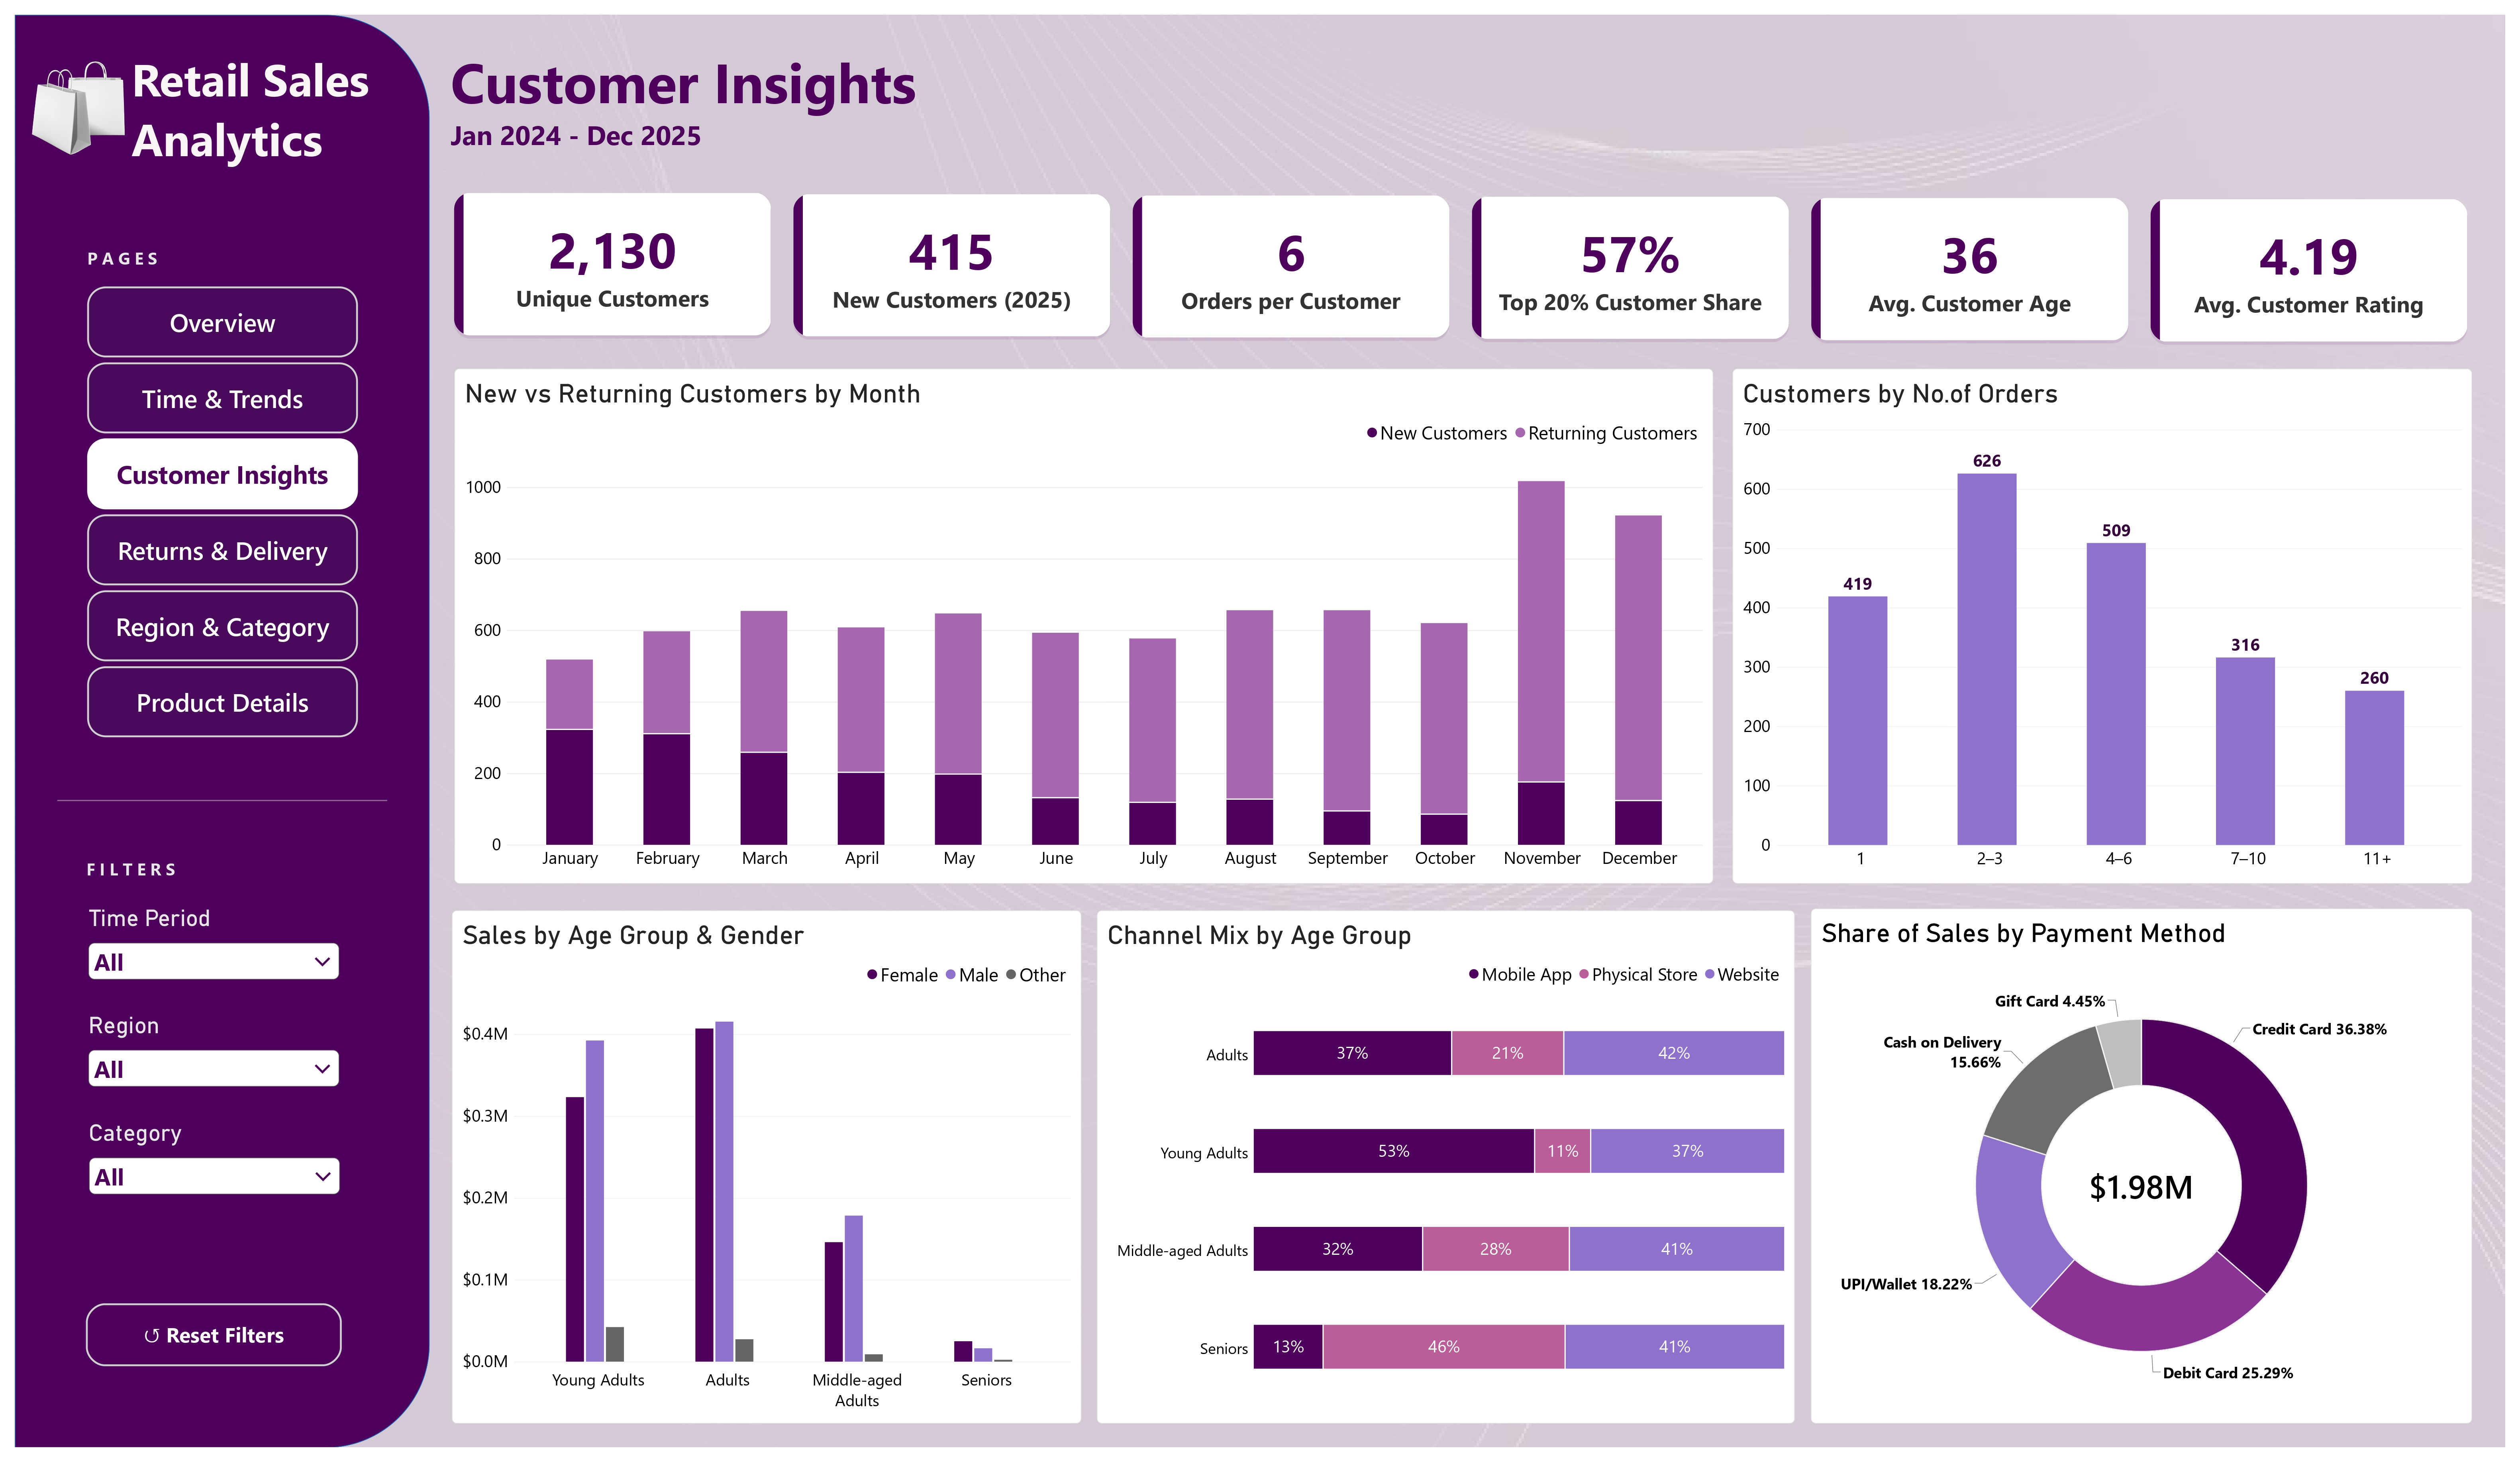

The page's visual inventory and layout, read from the dashboard file:
{"tool":"powerbi","page":{"name":"Customer Insights","canvas":[4000,2300],"ordinal":2},"visuals":[{"type":"shape","box":[0,0,666.3,2300.8],"z":0},{"type":"textbox","box":[186.7,53.3,419.4,215.6],"z":1000},{"type":"image","box":[0,35.3,203.8,227.3],"z":2000},{"type":"pageNavigator","box":[115.6,435.6,435.6,724.4],"z":3000},{"type":"textbox","box":[700,46.7,1236.7,143.3],"z":4000},{"type":"textbox","box":[700,163.3,420,70],"z":5000},{"type":"textbox","box":[116,372,132,40],"z":6000},{"type":"shape","box":[67.5,1150,530,222.5],"z":7000},{"type":"textbox","box":[115,1352.5,145,40],"z":8000},{"type":"listSlicer","title":"Time Period","fields":{"Values":["Date.Year"]},"box":[101.8,1413.6,435,160],"z":9000},{"type":"listSlicer","title":"Region","fields":{"Values":["Table1.region"]},"box":[102.2,1586.2,435,160],"z":10000},{"type":"listSlicer","title":"Category","fields":{"Values":["Table1.product_category"]},"box":[102.5,1758.8,435,160],"z":11000},{"type":"actionButton","box":[113.8,2068.8,411.2,101.2],"z":12000},{"type":"cardVisual","fields":{"Data":["Table1.Unique Customers"]},"box":[700,280,520,240],"z":13000},{"type":"cardVisual","fields":{"Data":["Table1.New Customers 2025"]},"box":[1245,282,520,240],"z":14000},{"type":"cardVisual","title":"Average Order Value","fields":{"Data":["Table1.Top 20% Customer Share"]},"box":[2335,286,520,240],"z":15000},{"type":"cardVisual","fields":{"Data":["Table1.Avg. Customer Age"]},"box":[2880,288,520,240],"z":16000},{"type":"cardVisual","fields":{"Data":["Table1.Orders per Cust"]},"box":[1790,284,520,240],"z":17000},{"type":"cardVisual","fields":{"Data":["Table1.Avg. Customer Rating"]},"box":[3425,290,520,240],"z":18000},{"type":"clusteredColumnChart","title":"Sales by Age Group & Gender","fields":{"Category":["Table1.customer_age_group"],"Series":["Table1.gender"],"Y":["Table1.Total Sales"]},"box":[701.6,1438.5,1011.3,823.1],"z":19000},{"type":"donutChart","title":"Share of Sales by Payment Method","fields":{"Category":["Table1.payment_method"],"Y":["Table1.Total Sales"]},"box":[2884.8,1434.6,1062.2,827],"z":20000},{"type":"clusteredColumnChart","title":"Customers by No.of Orders","fields":{"Category":["Table1.Order Bucket"],"Y":["Table1.Customers"]},"box":[2759.4,568.3,1187.6,827],"z":21000},{"type":"columnChart","title":"New vs Returning Customers by Month","fields":{"Category":["Date.Month"],"Y":["Table1.New Customers","Table1.Returning Customers"]},"box":[705.5,568.3,2022.5,827],"z":22000},{"type":"hundredPercentStackedBarChart","title":"Channel Mix by Age Group","fields":{"Category":["Table1.customer_age_group"],"Series":["Table1.order_channel"],"Y":["Table1.Total Sales"]},"box":[1738.3,1438.5,1121,823.1],"z":23000}]}

Visuals, with their boxes on the page's 4000x2300 design canvas (x1, y1, x2, y2). These are canvas units, not pixel positions in the 2520x1462 screenshot, which may show the page scaled, cropped or inside an application window:
shape: bbox=(0, 0, 666, 2301)
textbox: bbox=(187, 53, 606, 269)
image: bbox=(0, 35, 204, 263)
pageNavigator: bbox=(116, 436, 551, 1160)
textbox: bbox=(700, 47, 1937, 190)
textbox: bbox=(700, 163, 1120, 233)
textbox: bbox=(116, 372, 248, 412)
shape: bbox=(68, 1150, 598, 1372)
textbox: bbox=(115, 1352, 260, 1392)
"Time Period" listSlicer: bbox=(102, 1414, 537, 1574)
"Region" listSlicer: bbox=(102, 1586, 537, 1746)
"Category" listSlicer: bbox=(102, 1759, 538, 1919)
actionButton: bbox=(114, 2069, 525, 2170)
cardVisual - Table1.Unique Customers: bbox=(700, 280, 1220, 520)
cardVisual - Table1.New Customers 2025: bbox=(1245, 282, 1765, 522)
"Average Order Value" cardVisual: bbox=(2335, 286, 2855, 526)
cardVisual - Table1.Avg. Customer Age: bbox=(2880, 288, 3400, 528)
cardVisual - Table1.Orders per Cust: bbox=(1790, 284, 2310, 524)
cardVisual - Table1.Avg. Customer Rating: bbox=(3425, 290, 3945, 530)
"Sales by Age Group & Gender" clusteredColumnChart: bbox=(702, 1438, 1713, 2262)
"Share of Sales by Payment Method" donutChart: bbox=(2885, 1435, 3947, 2262)
"Customers by No.of Orders" clusteredColumnChart: bbox=(2759, 568, 3947, 1395)
"New vs Returning Customers by Month" columnChart: bbox=(706, 568, 2728, 1395)
"Channel Mix by Age Group" hundredPercentStackedBarChart: bbox=(1738, 1438, 2859, 2262)
